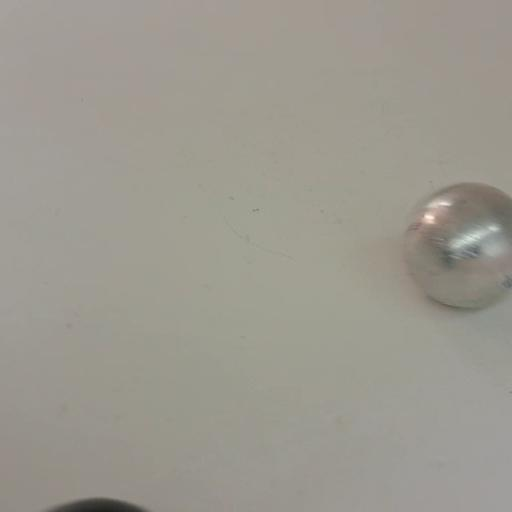alive: (397, 179, 512, 312)
dead: (36, 496, 157, 512)
